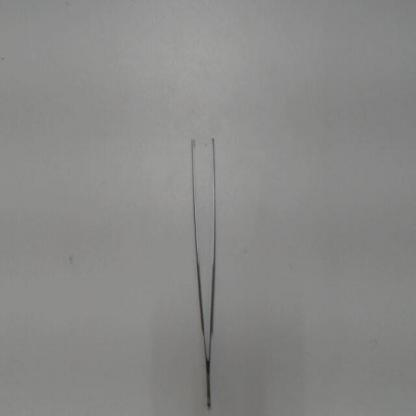Gillies Toothed Dissector: (183, 118, 223, 412)
